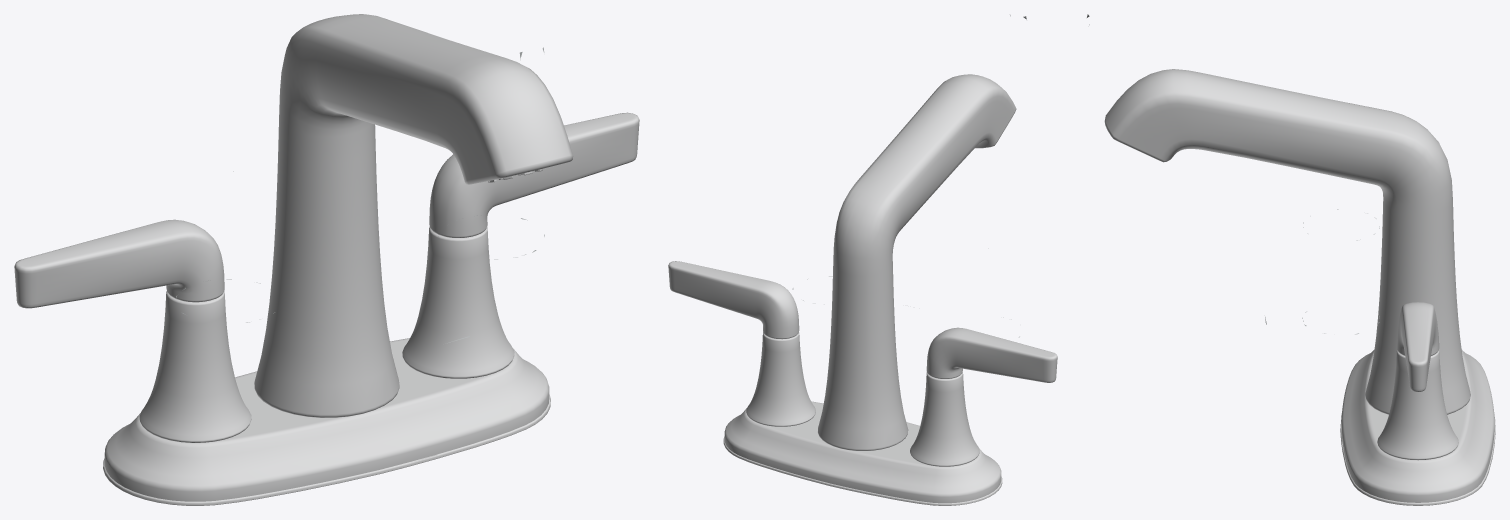
Rendered from sink-faucet-2.glb.
3 renders of one model, left to right at view 1: azimuth 30°, elevation 25°; view 2: azimuth 150°, elevation 25°; view 3: azimuth 270°, elevation 25°, orthographic. The views are drawn at different scales.
Parts seen in each view (by area): view 1: 3DGeom-2; view 2: 3DGeom-2; view 3: 3DGeom-2.
Boxes of the visible parts, x1,y1,x2,y2 form: 3DGeom-2: (14,14,639,505); 3DGeom-2: (668,15,1057,505); 3DGeom-2: (1087,14,1495,505).
Size of the model in its own units: 0.2403 by 0.2058 by 0.1888.
Materials: 2 (1 with a texture image).
